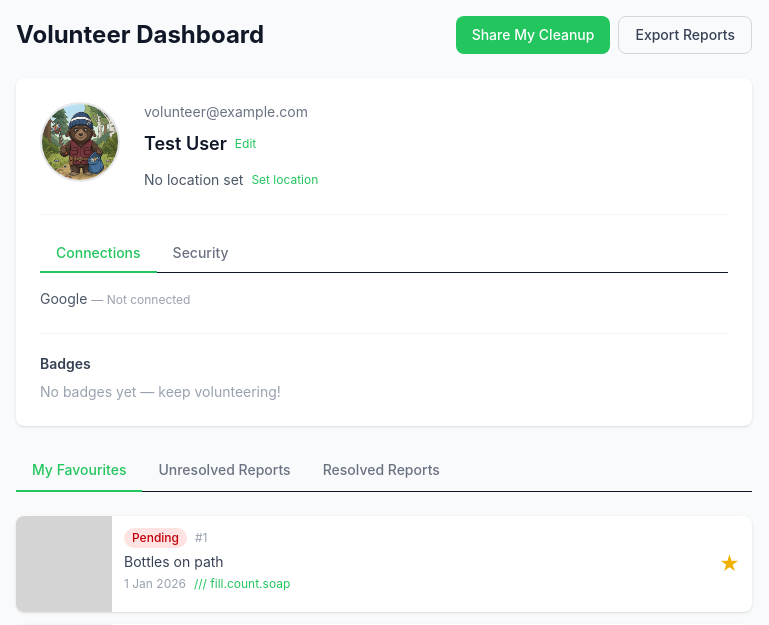
VolunteerDashboard › opens name editing form when Edit is clicked
Expected: the text "Test User" is shown, [144,130,227,158]
Click the button "Edit": (246, 144) [235,136,256,152]
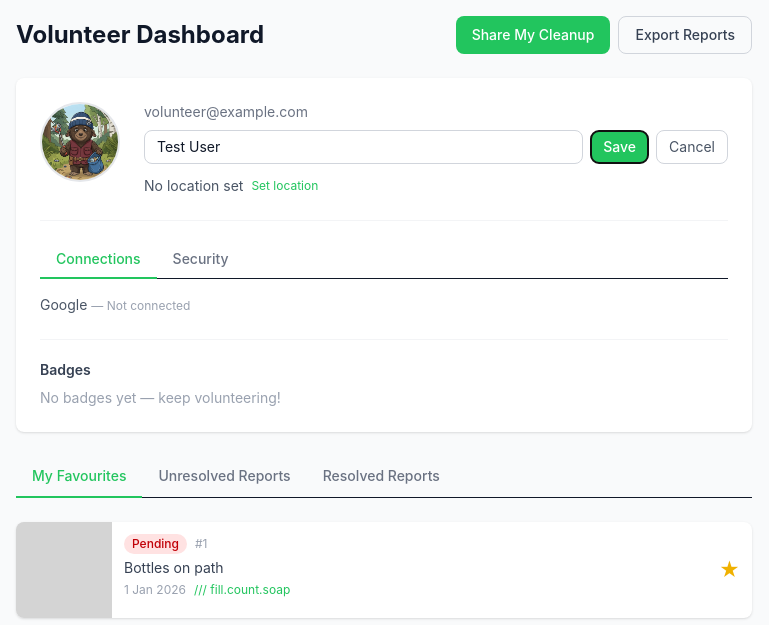
Expected: the field with placeholder "Your full name" is shown, [144,130,583,164]
Expected: the button "Save" is shown, [591,131,648,163]
Expected: the button "Cancel" is shown, [656,130,728,164]
